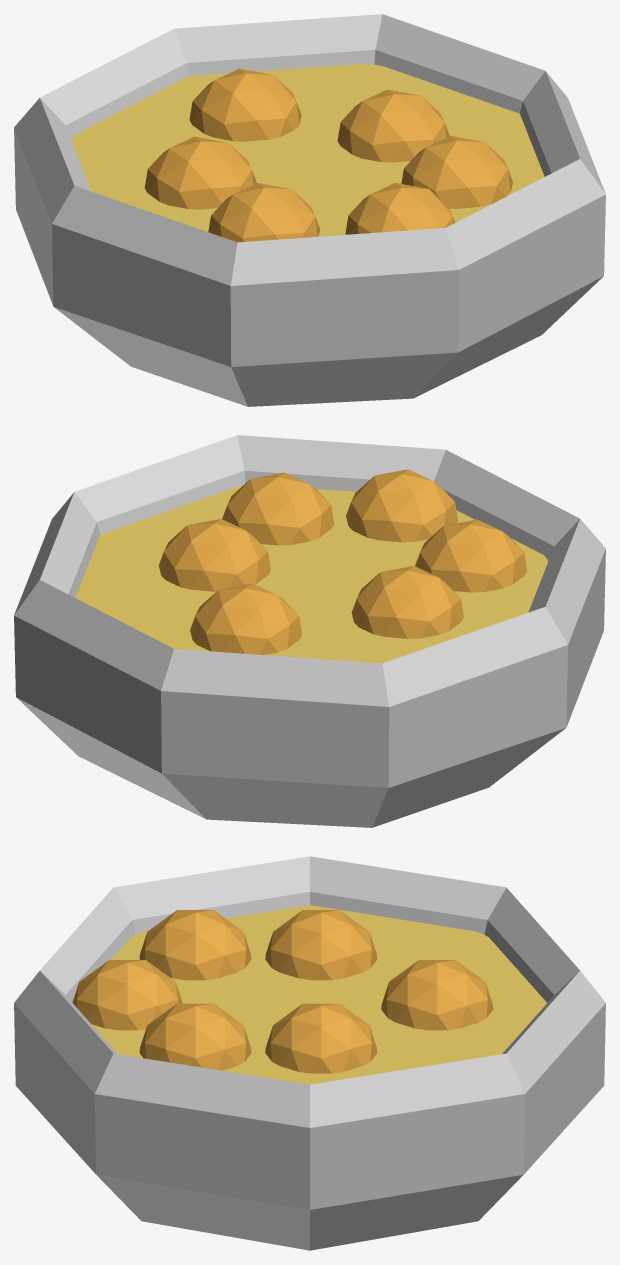
Rendered from PETO.fbx.
3 renders of one model, top to bottom at view 1: azimuth 30°, elevation 25°; view 2: azimuth 150°, elevation 25°; view 3: azimuth 270°, elevation 25°, orthographic.
Parts seen in each view (by area): view 1: Cube, Cylinder, Icosphere, Icosphere.003, Icosphere.004, Icosphere.002, Icosphere.005, Icosphere.001; view 2: Cube, Cylinder, Icosphere.004, Icosphere, Icosphere.003, Icosphere.001, Icosphere.002, Icosphere.005; view 3: Cube, Cylinder, Icosphere.003, Icosphere, Icosphere.004, Icosphere.005, Icosphere.002, Icosphere.001.
Part boxes in pixels (<box>): Cube: <box>14,14,605,406</box>; Cylinder: <box>72,64,544,236</box>; Icosphere: <box>189,68,301,141</box>; Icosphere.003: <box>337,89,449,162</box>; Icosphere.004: <box>144,136,256,209</box>; Icosphere.002: <box>401,136,512,208</box>; Icosphere.005: <box>208,183,320,242</box>; Icosphere.001: <box>345,182,454,234</box>; Cube: <box>14,435,605,827</box>; Cylinder: <box>75,486,547,663</box>; Icosphere.004: <box>351,566,463,638</box>; Icosphere: <box>190,583,302,654</box>; Icosphere.003: <box>158,519,270,591</box>; Icosphere.001: <box>346,469,458,542</box>; Icosphere.002: <box>222,472,334,545</box>; Icosphere.005: <box>415,519,527,592</box>; Cube: <box>14,856,605,1250</box>; Cylinder: <box>92,905,546,1084</box>; Icosphere.003: <box>265,1003,377,1073</box>; Icosphere: <box>381,960,493,1030</box>; Icosphere.004: <box>265,910,377,980</box>; Icosphere.005: <box>139,910,251,980</box>; Icosphere.002: <box>139,1003,251,1070</box>; Icosphere.001: <box>72,960,182,1030</box>.
Bounding box in the file's own units: 176 × 75.36 × 176.
